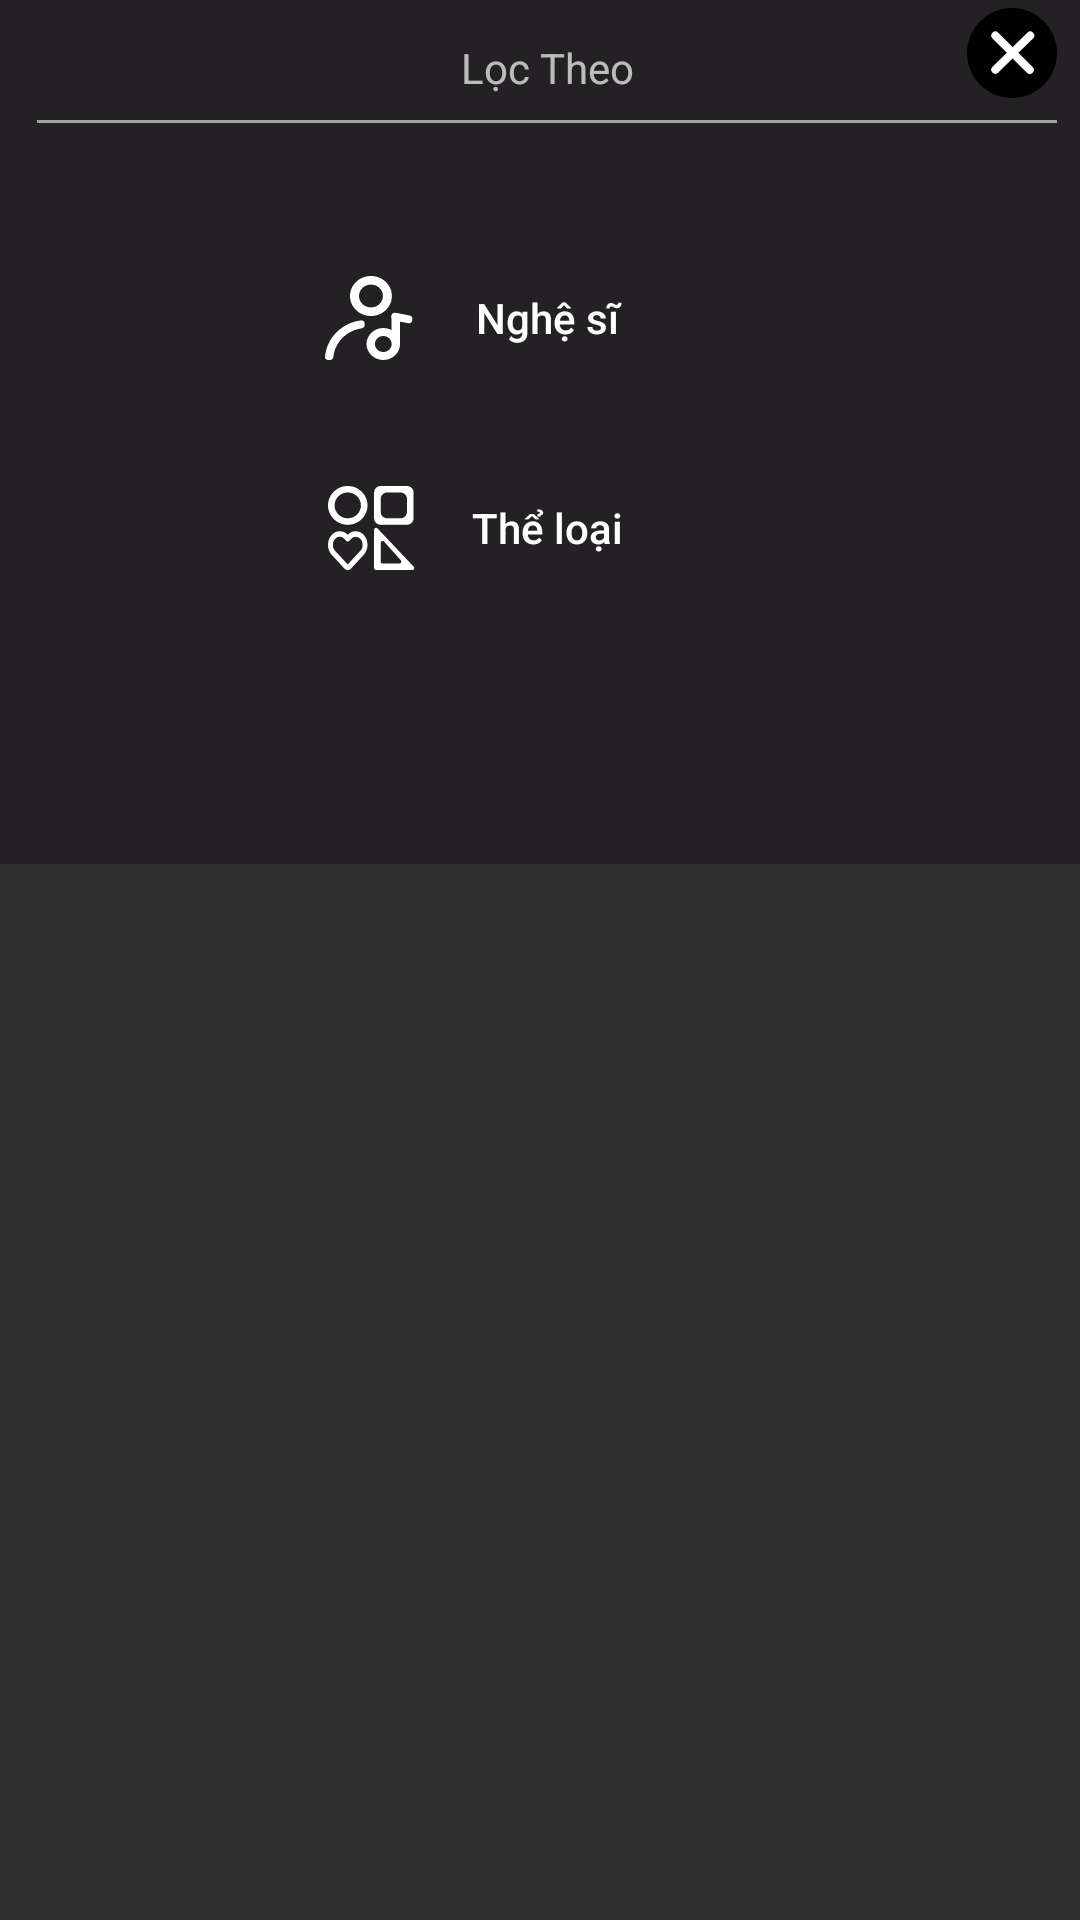

Screen size 1080px×1920px. Icon name, then its box in pixels as (x1, y1, x2, y2):
artist: (325, 276, 413, 360)
type: (328, 486, 415, 570)
